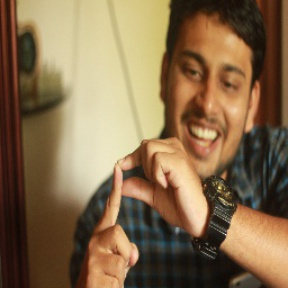P: (85, 135, 206, 288)
